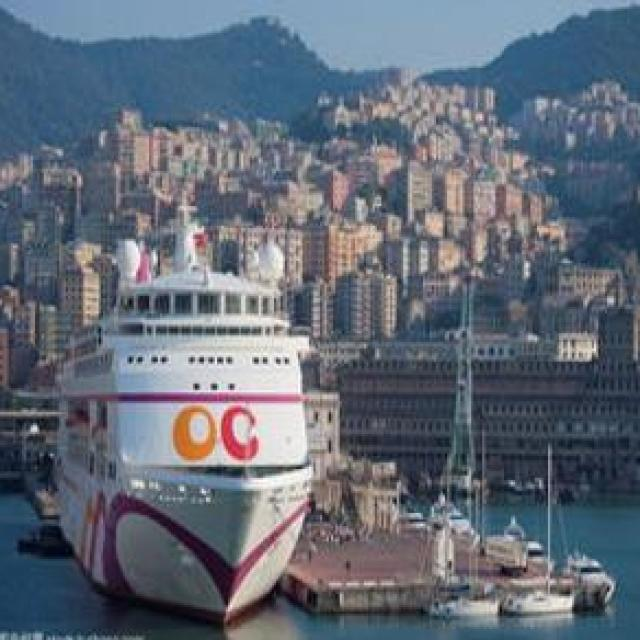houseboat: (558, 550, 618, 609), (431, 586, 506, 624), (514, 580, 582, 619)
passenger ship: (44, 246, 311, 627)
